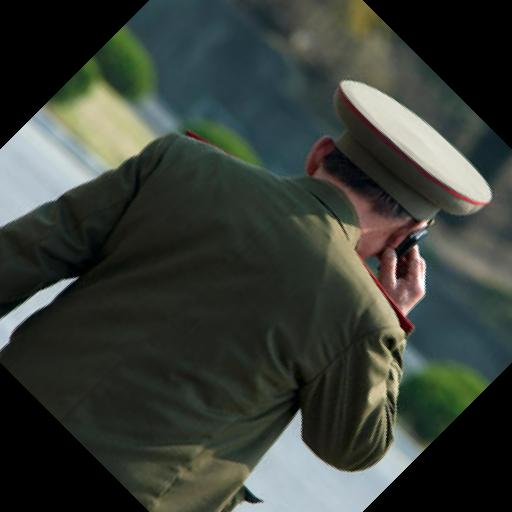north army: (13, 30, 480, 491)
